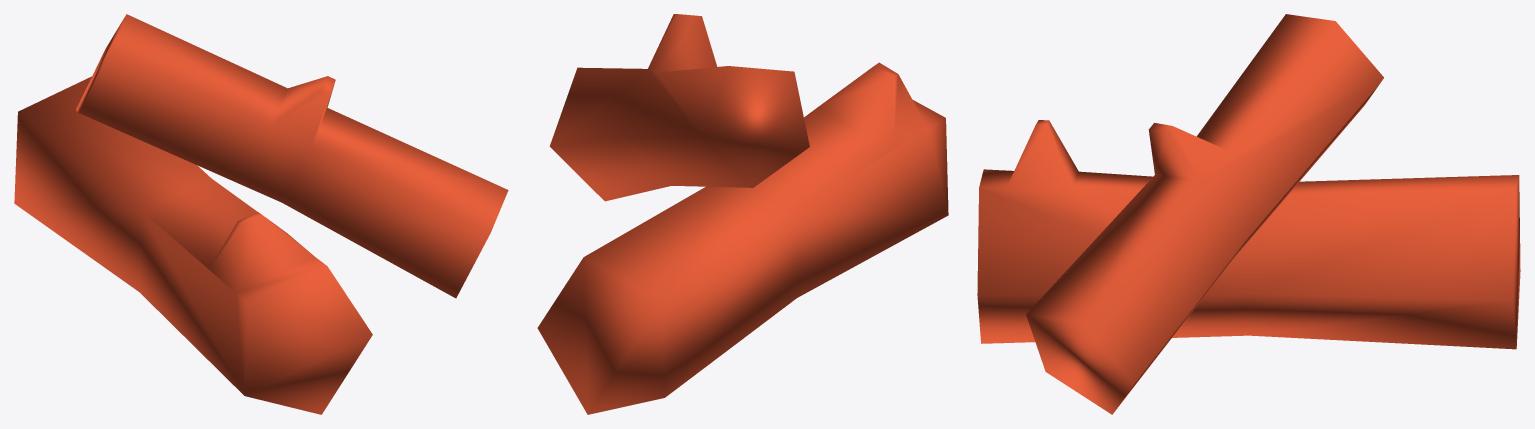
Rendered from fire_pit.gltf.
3 views of the same model, side by side, from view 1: azimuth 30°, elevation 25°; view 2: azimuth 150°, elevation 25°; view 3: azimuth 270°, elevation 25° (orthographic). The views are drawn at different scales.
Visible parts, largest first — view 1: Wood; view 2: Wood; view 3: Wood.
Part boxes in pixels (x1,y1,x2,y2): Wood: [14, 14, 508, 414]; Wood: [537, 14, 948, 414]; Wood: [977, 14, 1520, 414].
Size of the model in its own units: 1.08 by 0.9067 by 1.45.
